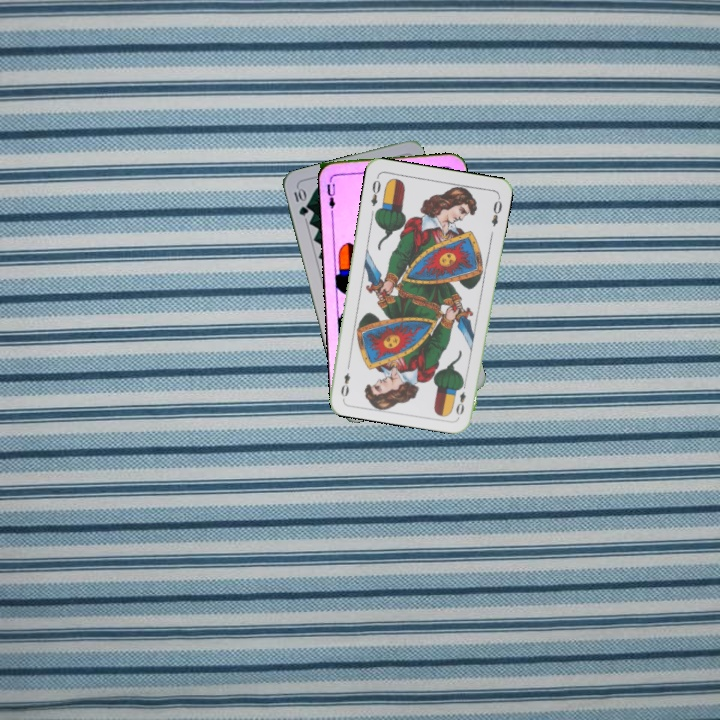EO: (452, 378, 469, 417), (366, 173, 383, 209)
EU: (323, 174, 338, 215)
G10: (290, 184, 311, 218)
